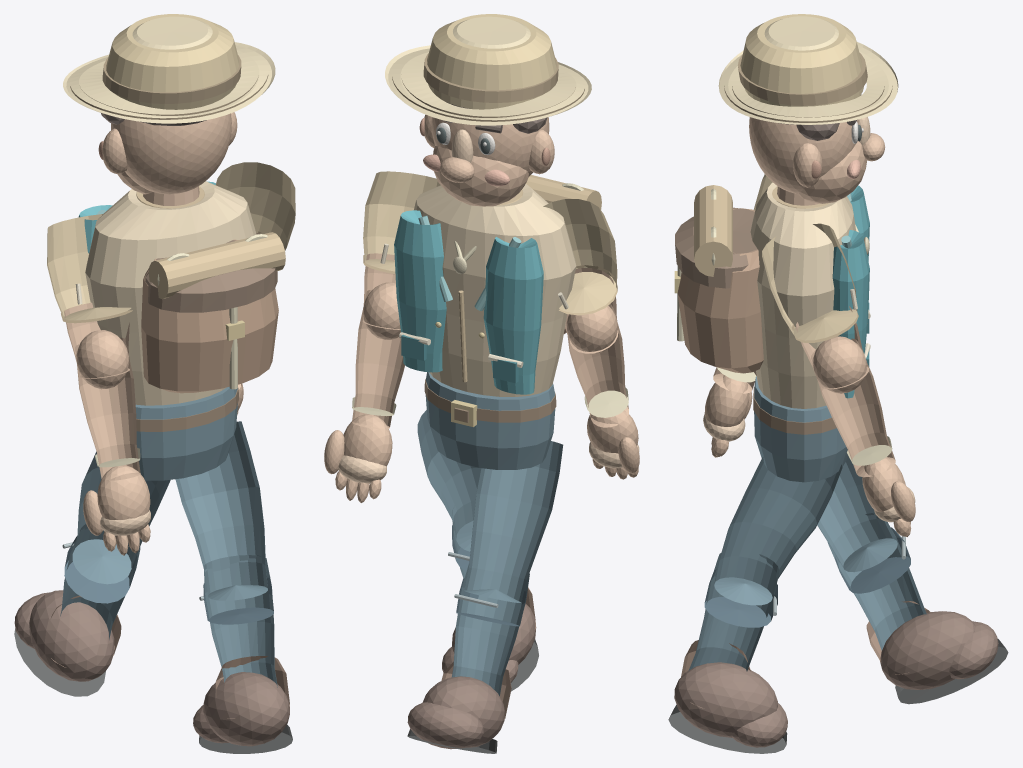
The model's file is A04_walk_weighted_pose_diagnostic.glb.
The picture shows the model from 3 angles, left to right: view 1: azimuth 30°, elevation 25°; view 2: azimuth 150°, elevation 25°; view 3: azimuth 270°, elevation 25°; orthographic projection. The views are drawn at different scales.
Parts seen in each view (by area): view 1: world; view 2: world; view 3: world.
Boxes of the visible parts, x1,y1,x2,y2 form: world: [14, 14, 295, 753]; world: [324, 14, 639, 753]; world: [668, 14, 1008, 753].
Size of the model in its own units: 0.676 by 1.86 by 0.824.
